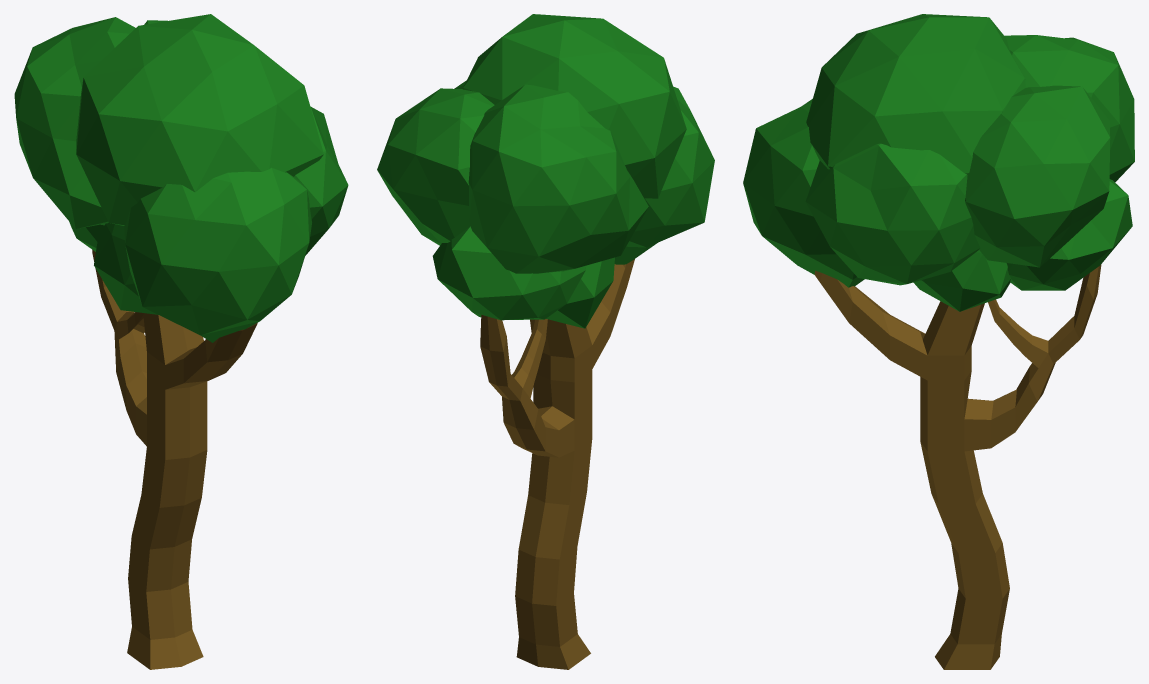
The model's file is forest_tree_5.fbx.
The picture shows the model from 3 angles, left to right: view 1: azimuth 30°, elevation 25°; view 2: azimuth 150°, elevation 25°; view 3: azimuth 270°, elevation 25°; orthographic projection. The views are drawn at different scales.
Visible parts, largest first — view 1: Icosphere.052; view 2: Icosphere.052; view 3: Icosphere.052.
Part boxes in pixels (x1,y1,x2,y2): Icosphere.052: (14,14,348,669); Icosphere.052: (377,14,714,669); Icosphere.052: (743,14,1134,669).
Size of the model in its own units: 1340 by 3197 by 1765.
